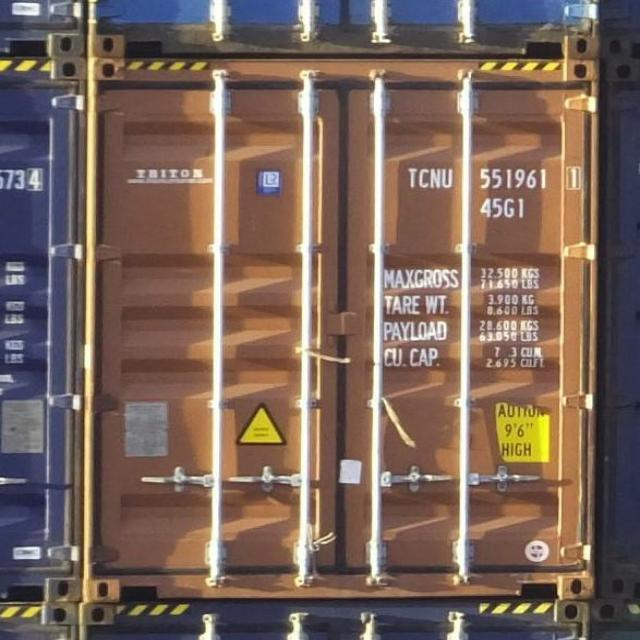ISO: (478, 193, 534, 221)
container_number: (404, 163, 584, 194)
